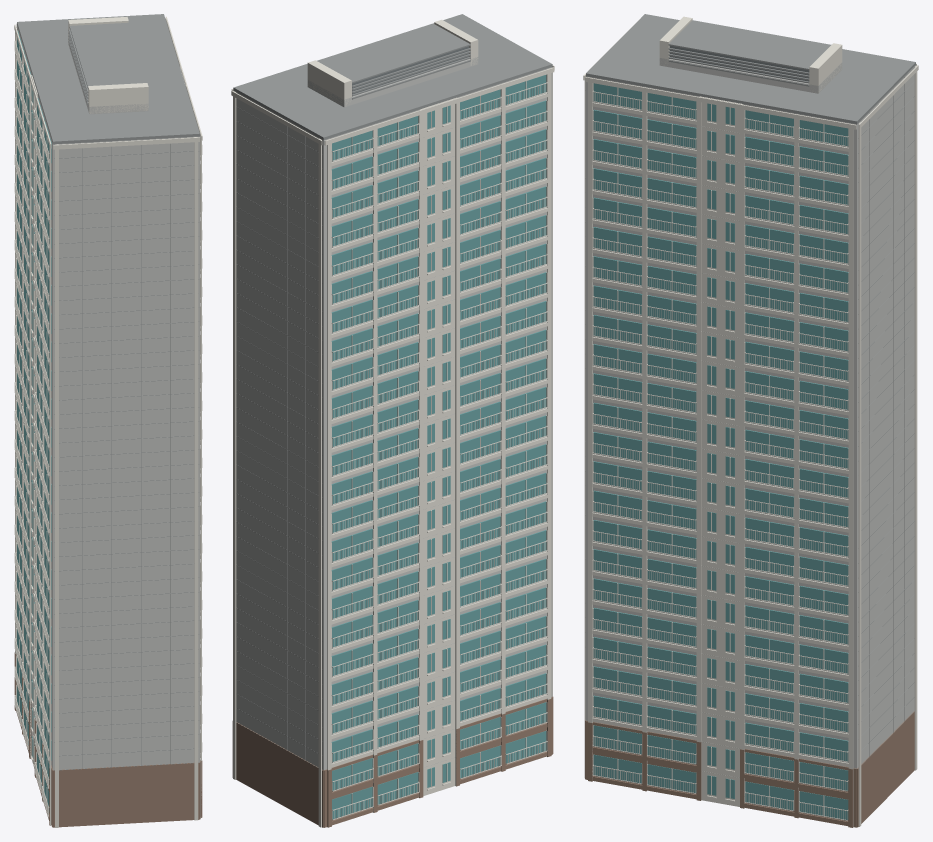
File: bespoke-jamsil-els-123.glb
3 renders of one model, left to right at view 1: azimuth 30°, elevation 25°; view 2: azimuth 150°, elevation 25°; view 3: azimuth 270°, elevation 25°, orthographic. The views are drawn at different scales.
Visible parts, largest first — view 1: Els123_editable_Els123_light_grey_solid_wall, Els123_editable_Els123_modest_grey_flat_roof_caps, Els123_white_exact_chunk_1, Els123_white_exact_chunk_0, Els123_editable_Els123_turquoise_balcony_glazing, Els123_editable_Els123_muted_ground_wall, Els123_white_exact_chunk_3, Els123_white_exact_chunk_2; view 2: Els123_editable_Els123_turquoise_balcony_glazing, Els123_editable_Els123_light_grey_solid_wall, Els123_white_exact_chunk_0, Els123_white_exact_chunk_1, Els123_editable_Els123_modest_grey_flat_roof_caps, Els123_editable_Els123_muted_ground_wall, Els123_white_exact_chunk_3, Els123_editable_Els123_narrow_charcoal_service_strips; view 3: Els123_editable_Els123_turquoise_balcony_glazing, Els123_editable_Els123_light_grey_solid_wall, Els123_white_exact_chunk_2, Els123_white_exact_chunk_1, Els123_editable_Els123_modest_grey_flat_roof_caps, Els123_white_exact_chunk_3, Els123_editable_Els123_muted_ground_wall, Els123_white_exact_chunk_0, Els123_editable_Els123_narrow_charcoal_service_strips.
Part boxes in pixels (x1,y1,x2,y2): Els123_editable_Els123_light_grey_solid_wall: (17, 25, 199, 770); Els123_editable_Els123_modest_grey_flat_roof_caps: (17, 14, 199, 770); Els123_white_exact_chunk_1: (14, 24, 202, 827); Els123_white_exact_chunk_0: (14, 23, 42, 793); Els123_editable_Els123_turquoise_balcony_glazing: (17, 30, 51, 812); Els123_editable_Els123_muted_ground_wall: (14, 652, 202, 827); Els123_white_exact_chunk_3: (68, 16, 202, 140); Els123_white_exact_chunk_2: (186, 85, 201, 817); Els123_editable_Els123_turquoise_balcony_glazing: (331, 75, 546, 819); Els123_editable_Els123_light_grey_solid_wall: (233, 57, 552, 770); Els123_white_exact_chunk_0: (231, 90, 501, 827); Els123_white_exact_chunk_1: (324, 65, 554, 786); Els123_editable_Els123_modest_grey_flat_roof_caps: (233, 14, 552, 767); Els123_editable_Els123_muted_ground_wall: (232, 696, 553, 827); Els123_white_exact_chunk_3: (231, 19, 478, 104); Els123_editable_Els123_narrow_charcoal_service_strips: (352, 46, 469, 94); Els123_editable_Els123_turquoise_balcony_glazing: (593, 83, 848, 819); Els123_editable_Els123_light_grey_solid_wall: (586, 58, 915, 777); Els123_white_exact_chunk_2: (588, 77, 848, 820); Els123_white_exact_chunk_1: (583, 18, 916, 806); Els123_editable_Els123_modest_grey_flat_roof_caps: (585, 14, 915, 768); Els123_white_exact_chunk_3: (585, 16, 856, 827); Els123_editable_Els123_muted_ground_wall: (585, 711, 914, 827); Els123_white_exact_chunk_0: (858, 65, 918, 826); Els123_editable_Els123_narrow_charcoal_service_strips: (669, 45, 809, 81).
Size of the model in its own units: 21.1 by 65.55 by 27.25.
